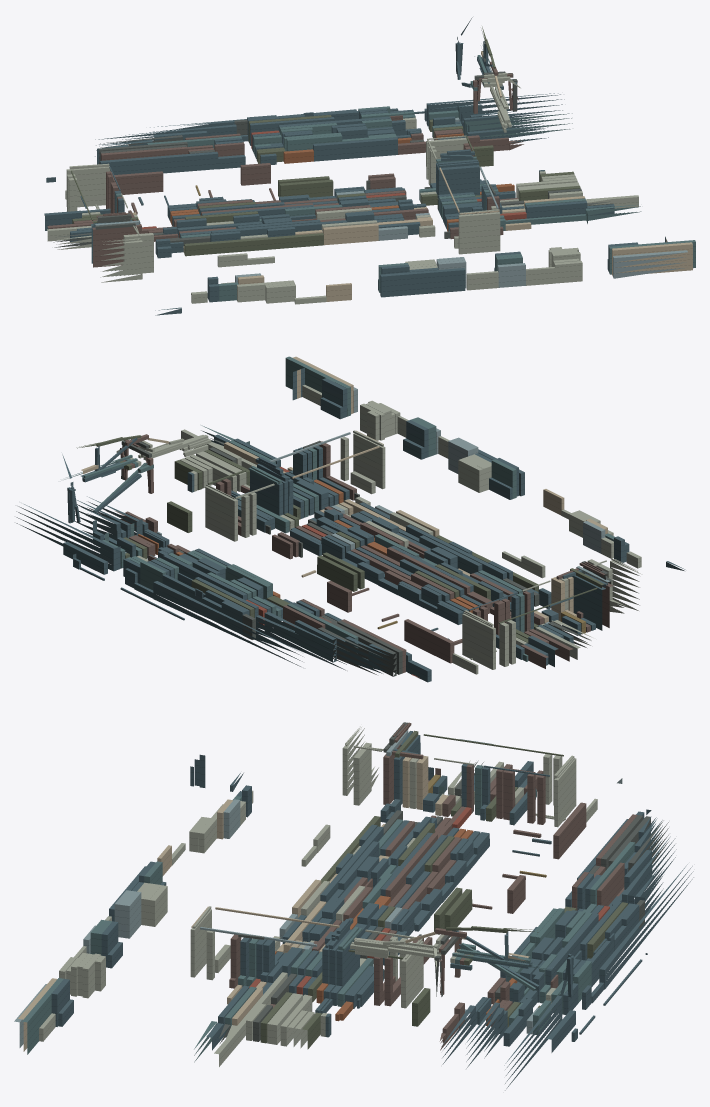
The model's file is terminal-72---23_16.glb.
The picture shows the model from 3 angles, top to bottom: view 1: azimuth 30°, elevation 25°; view 2: azimuth 150°, elevation 25°; view 3: azimuth 270°, elevation 25°; orthographic projection. The views are drawn at different scales.
Visible parts, largest first — view 1: measured-industrial; view 2: measured-industrial; view 3: measured-industrial.
Part boxes in pixels (<box>): measured-industrial: <box>44,17,695,315</box>; measured-industrial: <box>16,356,685,682</box>; measured-industrial: <box>14,722,693,1090</box>.
Size of the model in its own units: 304 by 54.9 by 274.
